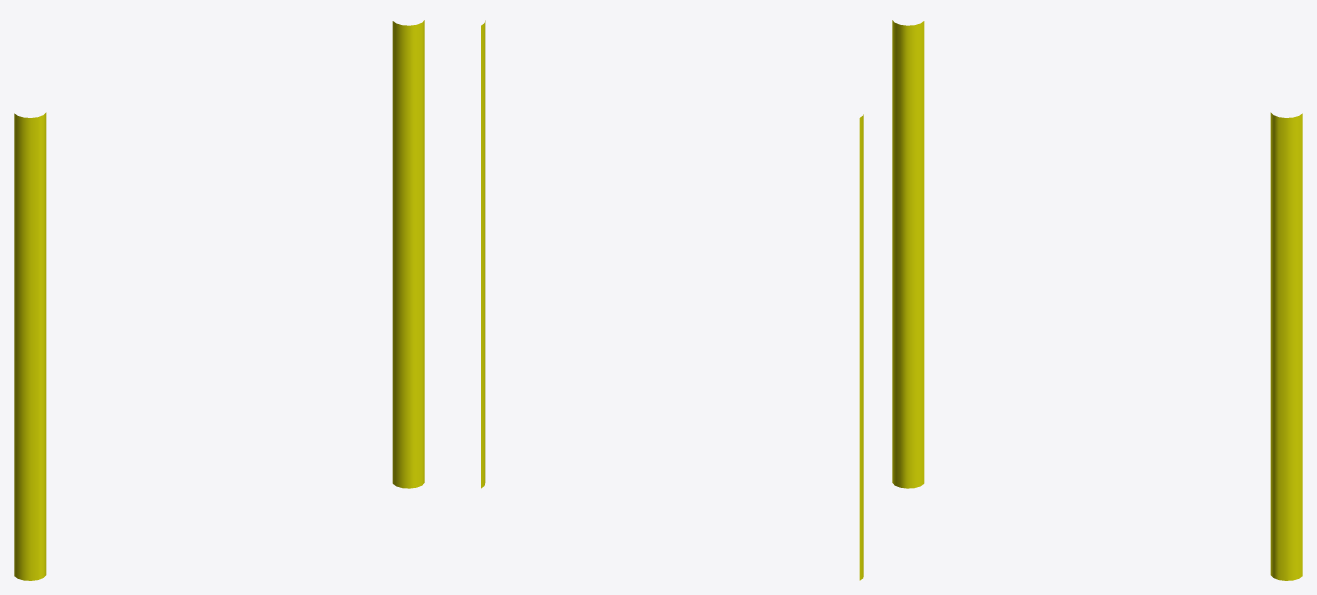
Rendered from trim-firstfloor-window-columns.glb.
3 views of the same model, side by side, from view 1: azimuth 30°, elevation 25°; view 2: azimuth 150°, elevation 25°; view 3: azimuth 330°, elevation 25° (orthographic).
Parts seen in each view (by area): view 1: Trim_FirstFloor_Window_Columns; view 2: Trim_FirstFloor_Window_Columns; view 3: Trim_FirstFloor_Window_Columns.
Boxes of the visible parts, left/top/right/bottom form: Trim_FirstFloor_Window_Columns: left=14, top=20, right=424, bottom=580; Trim_FirstFloor_Window_Columns: left=481, top=20, right=863, bottom=580; Trim_FirstFloor_Window_Columns: left=892, top=20, right=1302, bottom=580.
Bounding box in the file's own units: 2.15 × 2.34 × 0.0921.
Materials: 1 (1 with a texture image).
